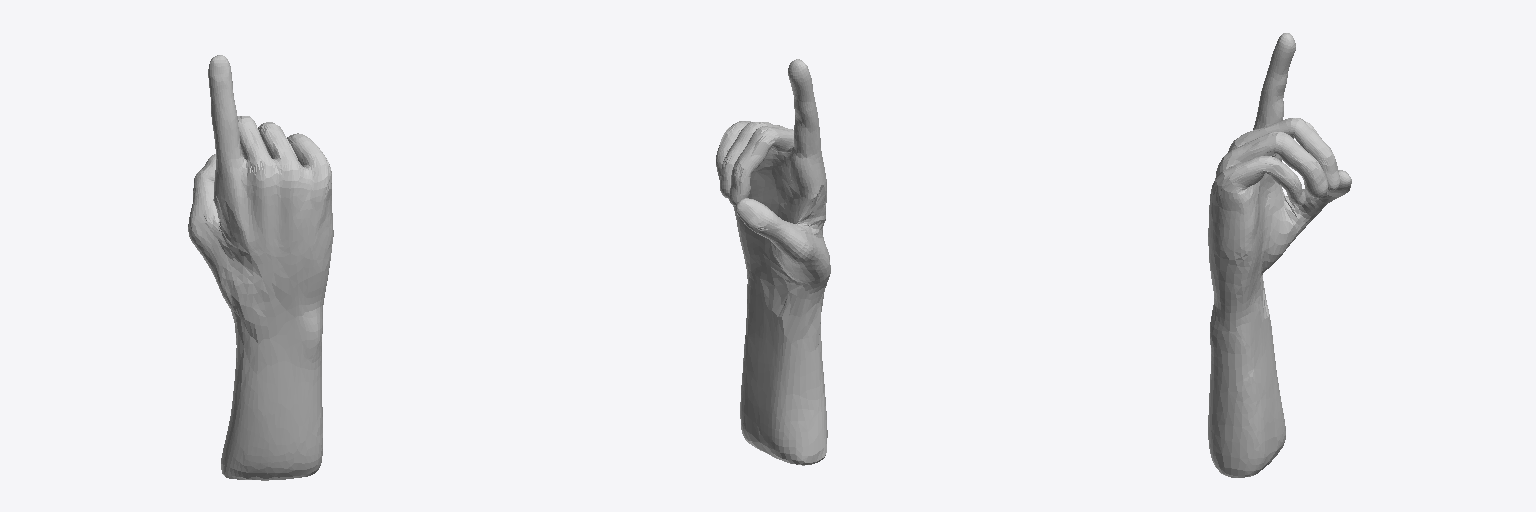
File: maind.obj
3 renders of one model, left to right at view 1: azimuth 30°, elevation 25°; view 2: azimuth 150°, elevation 25°; view 3: azimuth 270°, elevation 25°, orthographic.
Visible parts, largest first — view 1: ZBrush_defualt_group; view 2: ZBrush_defualt_group; view 3: ZBrush_defualt_group.
Boxes of the visible parts, x1=… form: ZBrush_defualt_group: x1=188, y1=55, x2=333, y2=480; ZBrush_defualt_group: x1=716, y1=59, x2=830, y2=465; ZBrush_defualt_group: x1=1208, y1=33, x2=1351, y2=477.
Bounding box in the file's own units: 2.58 × 9.47 × 2.99.